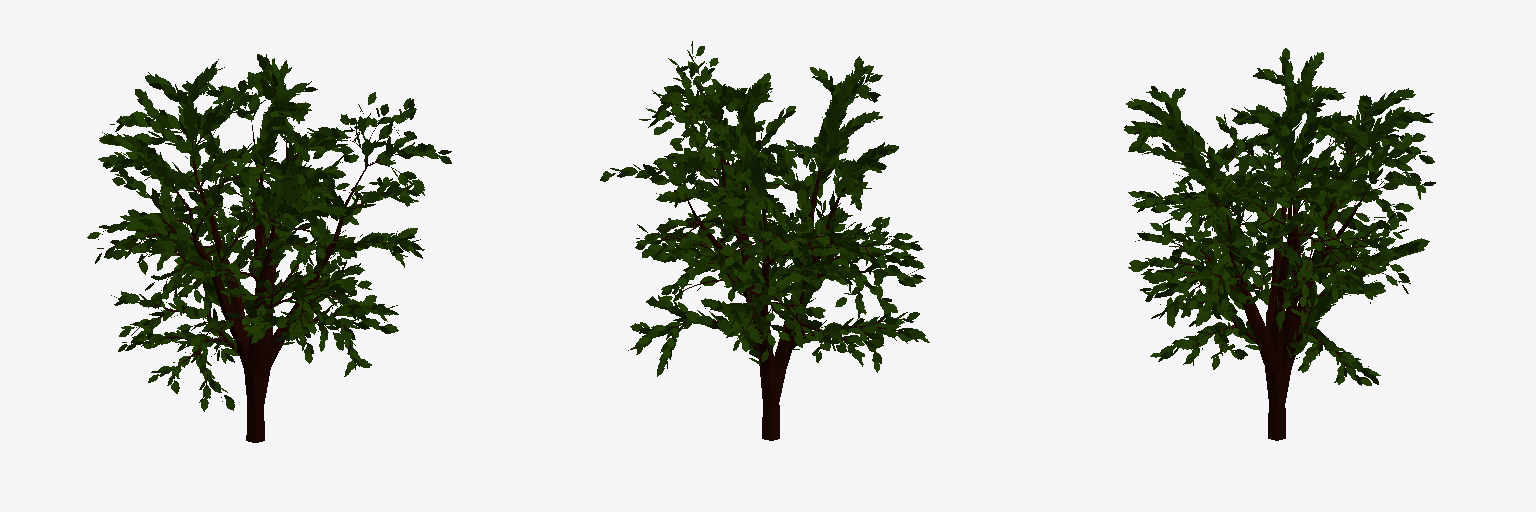
The model's file is maple_tree.obj.
3 views of the same model, side by side, from view 1: azimuth 30°, elevation 25°; view 2: azimuth 150°, elevation 25°; view 3: azimuth 270°, elevation 25° (orthographic).
Parts seen in each view (by area): view 1: maple_tree; view 2: maple_tree; view 3: maple_tree.
Part boxes in pixels (x1,y1,x2,y2): maple_tree: (87, 54, 451, 442); maple_tree: (600, 41, 929, 440); maple_tree: (1124, 48, 1435, 440).
Size of the model in its own units: 7.38 by 8.59 by 6.73.